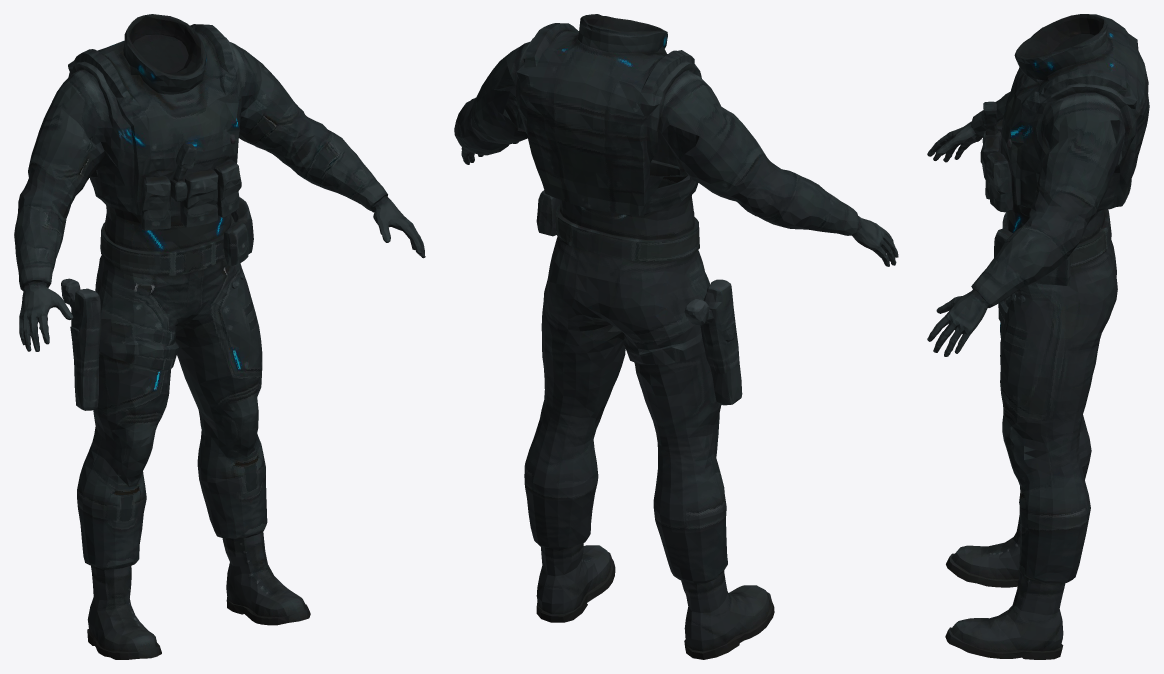
File: ewm_t2timecop_outfit.glb
3 renders of one model, left to right at view 1: azimuth 30°, elevation 25°; view 2: azimuth 150°, elevation 25°; view 3: azimuth 270°, elevation 25°, orthographic. The views are drawn at different scales.
Parts seen in each view (by area): view 1: ewm_t2timecop_outfit; view 2: ewm_t2timecop_outfit; view 3: ewm_t2timecop_outfit.
Boxes of the visible parts, box(x1,y1,x2,y2) form: ewm_t2timecop_outfit: box(14, 14, 425, 659); ewm_t2timecop_outfit: box(454, 14, 898, 659); ewm_t2timecop_outfit: box(927, 14, 1149, 659).
Size of the model in its own units: 1.2 by 1.7 by 0.5745.
1 material, 1 textured.
